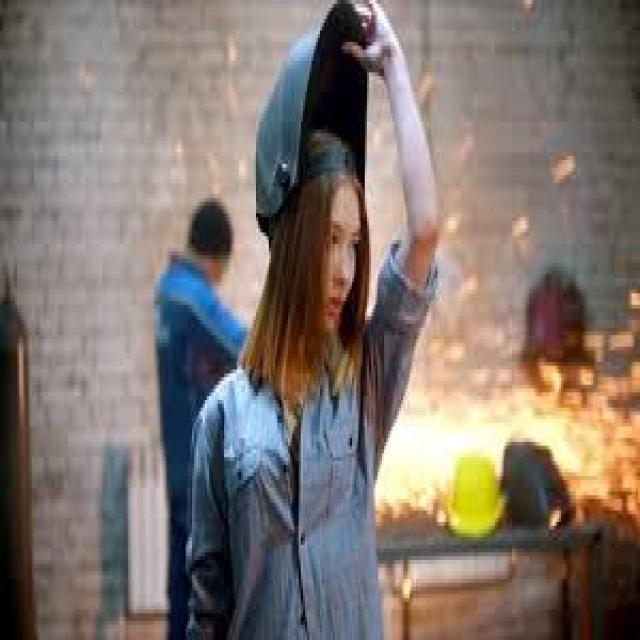helmet_lifted: (240, 0, 411, 371)
